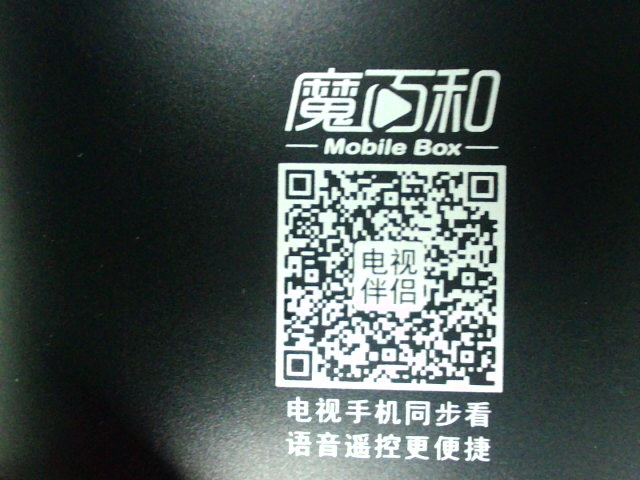AZ_MobileBox: (260, 58, 511, 464)
